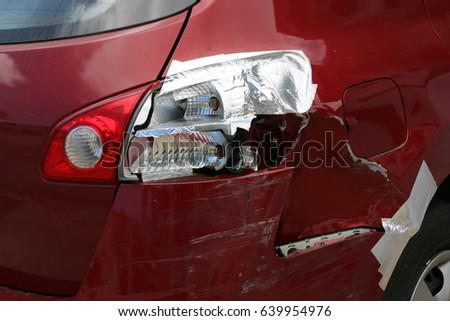Taillight-Damage: (47, 42, 324, 198)
quaterpanel-dent: (276, 0, 447, 301)
